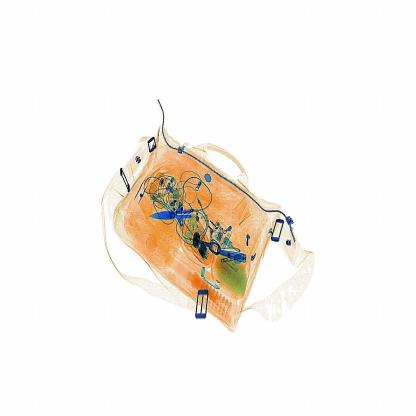gun: (146, 189, 212, 237)
